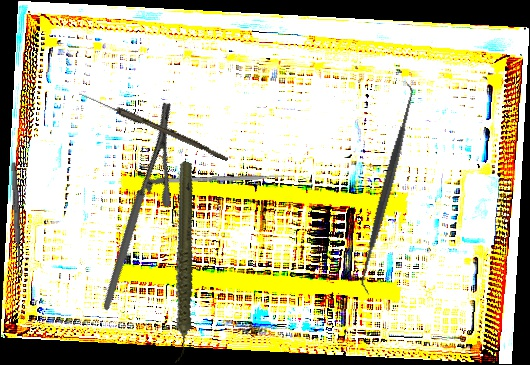Handpiece: (129, 160, 234, 365)
Needle Holder: (43, 98, 229, 312)
Pusher: (156, 173, 296, 184)
Spatula Surgical: (348, 81, 427, 296)
Surgical Spoon: (76, 90, 231, 162), (10, 161, 23, 277)
